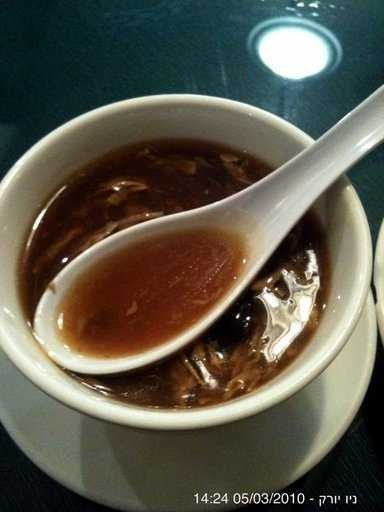soup: (22, 128, 325, 424)
